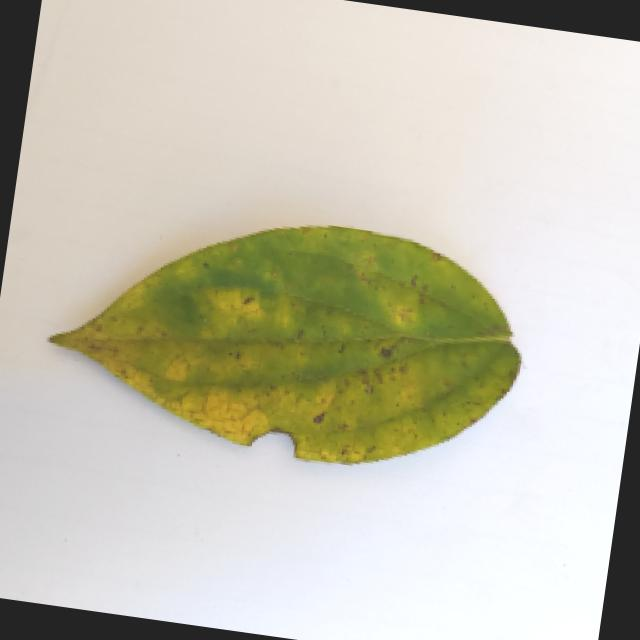slow-decline: (36, 186, 539, 485)
